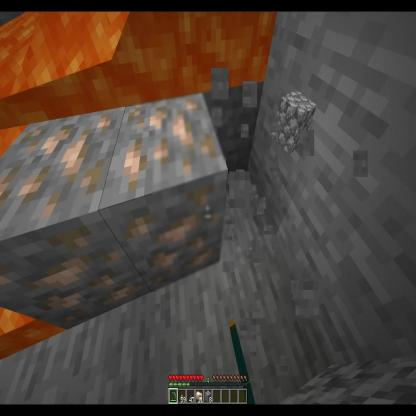iron ore: (0, 105, 152, 334), (99, 90, 226, 292)
